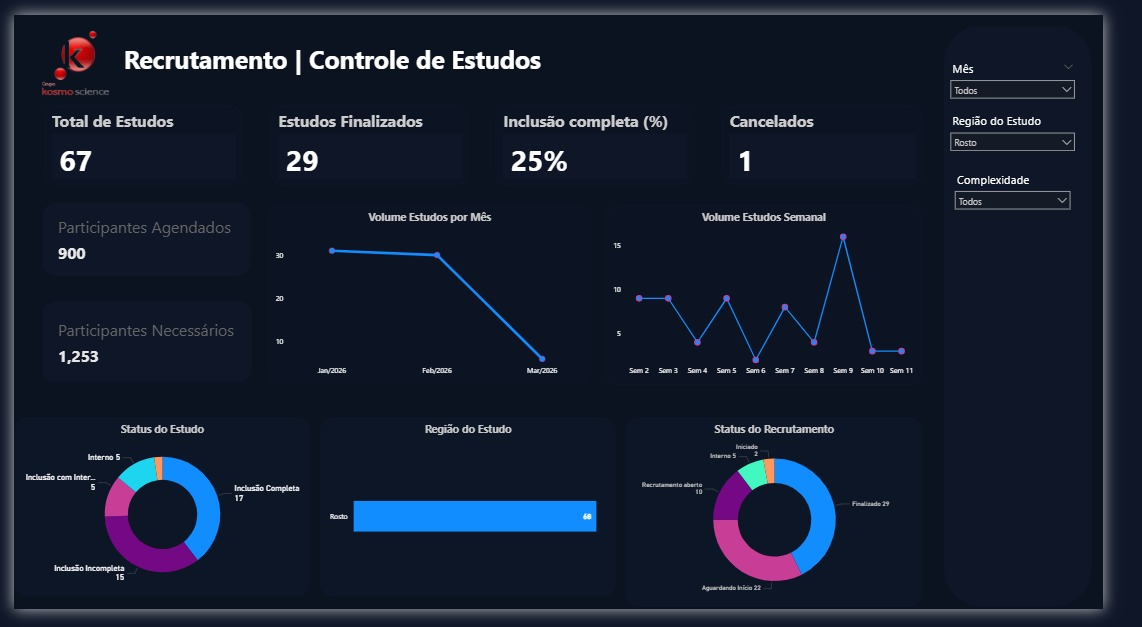

The page's visual inventory and layout, read from the dashboard file:
{"tool":"powerbi","page":{"name":"Dashboard","canvas":[1650,900],"ordinal":0},"visuals":[{"type":"donutChart","title":"Status do Recrutamento","fields":{"Category":["BASE_DADOS.Status do Recrutamento"],"Y":["CountNonNull(BASE_DADOS.RPP)"]},"box":[928,608,448,288],"z":0},{"type":"donutChart","title":"Status do Estudo","fields":{"Category":["BASE_DADOS.Status do Estudo"],"Y":["CountNonNull(BASE_DADOS.RPP)"]},"box":[0,608,448,272],"z":1000},{"type":"cardVisual","title":"Estudos Finalizados","fields":{"Data":["Count(BASE_DADOS.RPP)"]},"box":[387.9,137.3,300,122.1],"z":2000},{"type":"cardVisual","title":"Inclusão completa (%)","fields":{"Data":["BASE_DADOS.Inclusao Completa %"]},"box":[730,137.3,300,122],"z":3000},{"type":"cardVisual","title":"Cancelados","fields":{"Data":["Count(BASE_DADOS.RPP)"]},"box":[1072,137.3,304,122],"z":4000},{"type":"lineChart","title":"Volume Estudos por Mês","fields":{"Category":["BASE_DADOS.MesAno"],"Y":["Count(BASE_DADOS.RPP)"]},"box":[384,288,490,272],"z":5000},{"type":"shape","box":[1408,16,224,880],"z":6000},{"type":"slicer","fields":{"Values":["BASE_DADOS.MesAno"]},"box":[1408,64,208,80],"z":7000},{"type":"slicer","fields":{"Values":["BASE_DADOS.Região do Estudo"]},"box":[1408,144,208,80],"z":8000},{"type":"cardVisual","fields":{"Data":["BASE_DADOS.Participantes_Agendados_Display"]},"box":[44.2,283,314.9,111.4],"z":9000},{"type":"cardVisual","fields":{"Data":["BASE_DADOS.Participantes_Necessarios_Display"]},"box":[42.5,433.4,316.6,122.1],"z":10000},{"type":"slicer","title":"Complexidade","fields":{"Values":["BASE_DADOS.Complexidade","BASE_DADOS.RPP"]},"box":[1408,224,208,80],"z":11000},{"type":"lineChart","title":"Volume Estudos Semanal","fields":{"Category":["BASE_DADOS.Semana_Label"],"Y":["Count(BASE_DADOS.RPP)"]},"box":[896,288,480,272],"z":12000},{"type":"image","box":[0,0,185.7,155.7],"z":13000},{"type":"textbox","box":[161,35.4,728.8,65.4],"z":14000},{"type":"barChart","title":"Região do Estudo","fields":{"Category":["BASE_DADOS.Região do Estudo"],"Y":["CountNonNull(BASE_DADOS.RPP)"]},"box":[464,608,448,272],"z":15000},{"type":"cardVisual","title":"Total de Estudos","fields":{"Data":["Count(BASE_DADOS.RPP)"]},"box":[45.9,137.3,300,122.1],"z":16000}]}

Visuals, with their boxes in screenshot pixels (x1, y1, x2, y2), scaled from the page's 1650x900 canvas onto the 1142x627 screenshot:
"Status do Recrutamento" donutChart: x1=642, y1=424, x2=952, y2=624
"Status do Estudo" donutChart: x1=0, y1=424, x2=310, y2=613
"Estudos Finalizados" cardVisual: x1=268, y1=96, x2=476, y2=181
"Inclusão completa (%)" cardVisual: x1=505, y1=96, x2=713, y2=181
"Cancelados" cardVisual: x1=742, y1=96, x2=952, y2=181
"Volume Estudos por Mês" lineChart: x1=266, y1=201, x2=605, y2=390
shape: x1=975, y1=11, x2=1130, y2=624
slicer - BASE_DADOS.MesAno: x1=975, y1=45, x2=1118, y2=100
slicer - BASE_DADOS.Região do Estudo: x1=975, y1=100, x2=1118, y2=156
cardVisual - BASE_DADOS.Participantes_Agendados_Display: x1=31, y1=197, x2=249, y2=275
cardVisual - BASE_DADOS.Participantes_Necessarios_Display: x1=29, y1=302, x2=249, y2=387
"Complexidade" slicer: x1=975, y1=156, x2=1118, y2=212
"Volume Estudos Semanal" lineChart: x1=620, y1=201, x2=952, y2=390
image: x1=0, y1=0, x2=129, y2=108
textbox: x1=111, y1=25, x2=616, y2=70
"Região do Estudo" barChart: x1=321, y1=424, x2=631, y2=613
"Total de Estudos" cardVisual: x1=32, y1=96, x2=239, y2=181
